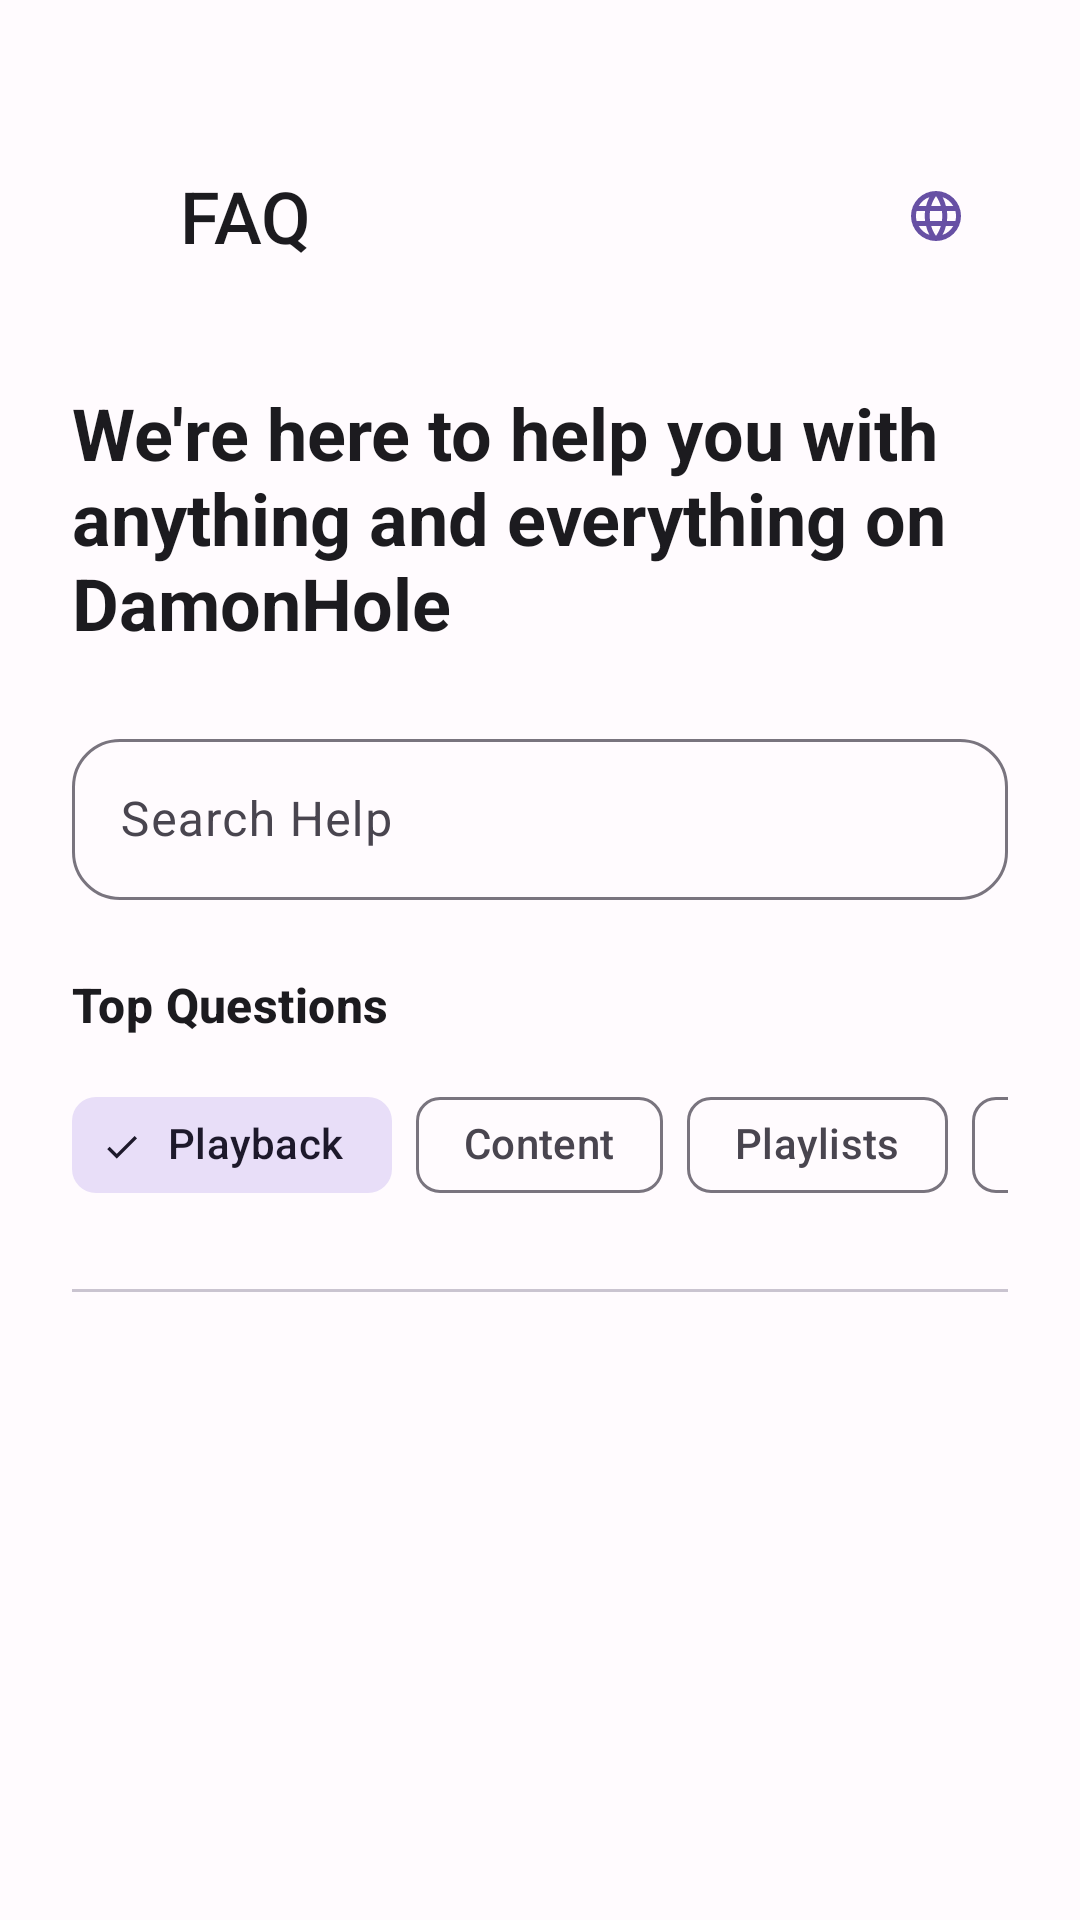

Icons on this 1080 x 1920 Android screen, each with the point to tap as point (x, y):
Change Language: point (936, 216)
